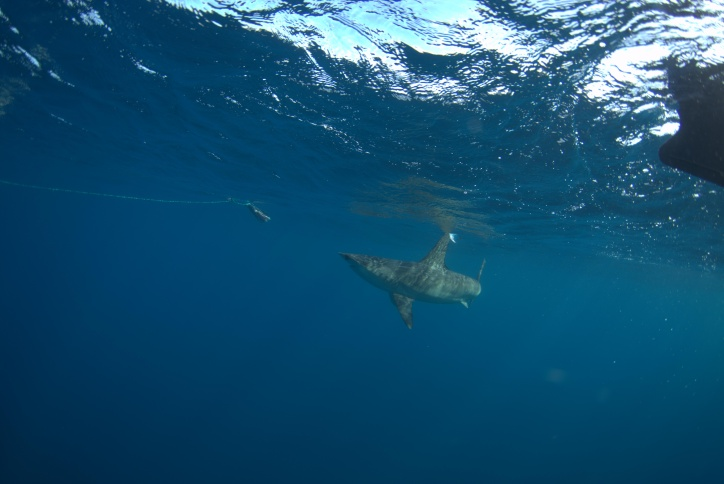Hammer: (323, 224, 520, 349)
